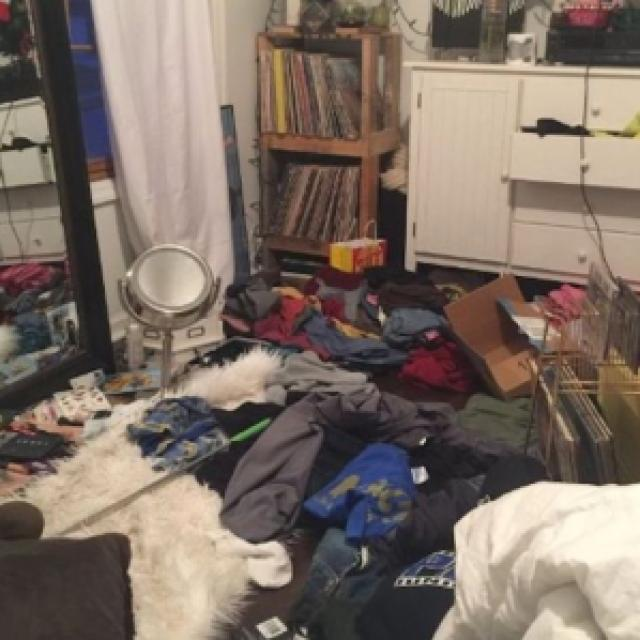mess: (220, 295, 456, 640), (0, 413, 261, 638), (415, 66, 640, 276), (461, 282, 640, 479), (471, 509, 640, 640)
